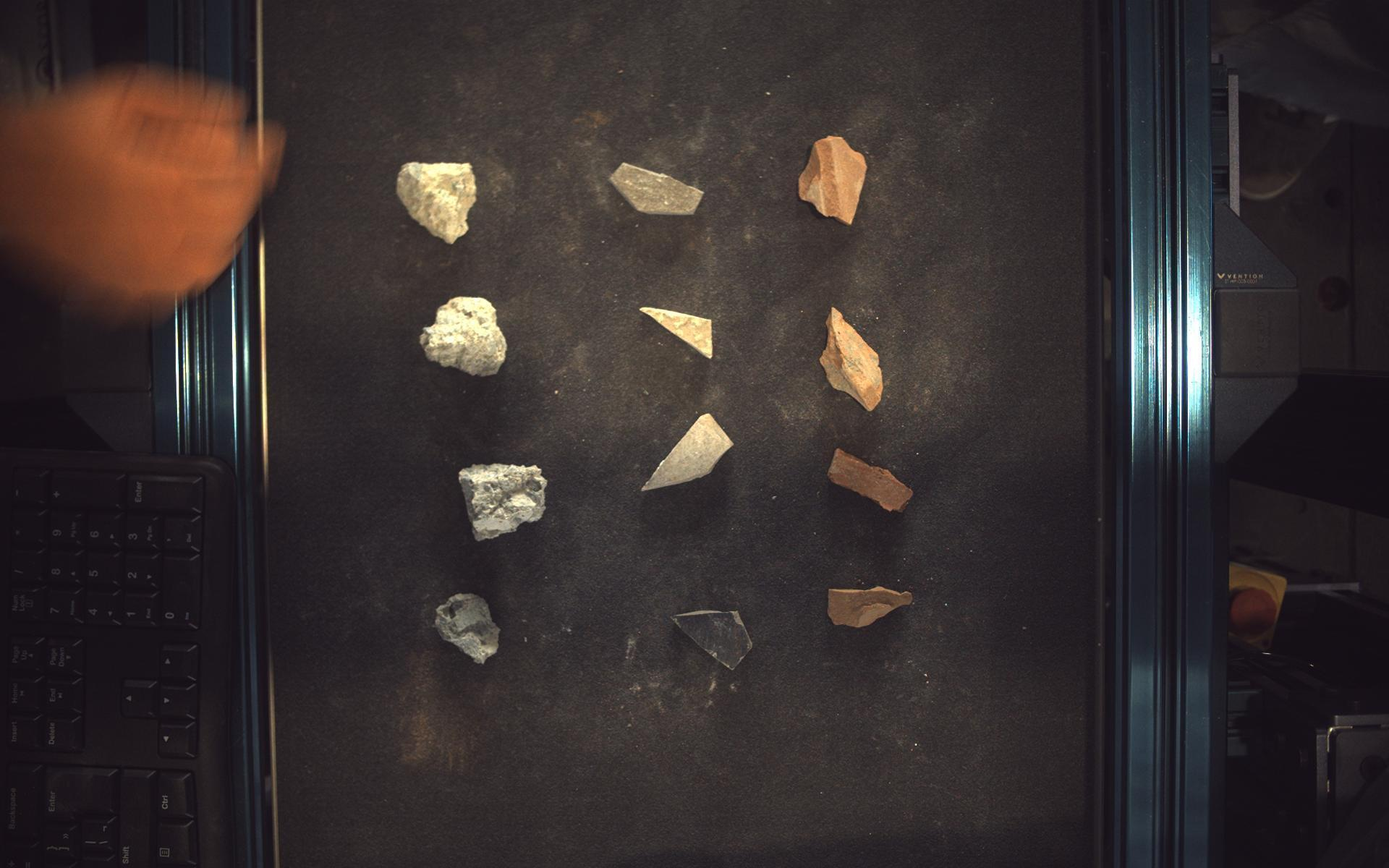brick: (821, 307, 885, 411), (800, 135, 868, 224), (829, 449, 914, 511), (829, 587, 914, 629)
concrete: (420, 297, 506, 376), (459, 464, 547, 541), (396, 161, 477, 243), (436, 594, 499, 665)
tile: (642, 414, 734, 492), (611, 162, 705, 214), (674, 611, 753, 671), (642, 306, 714, 358)
